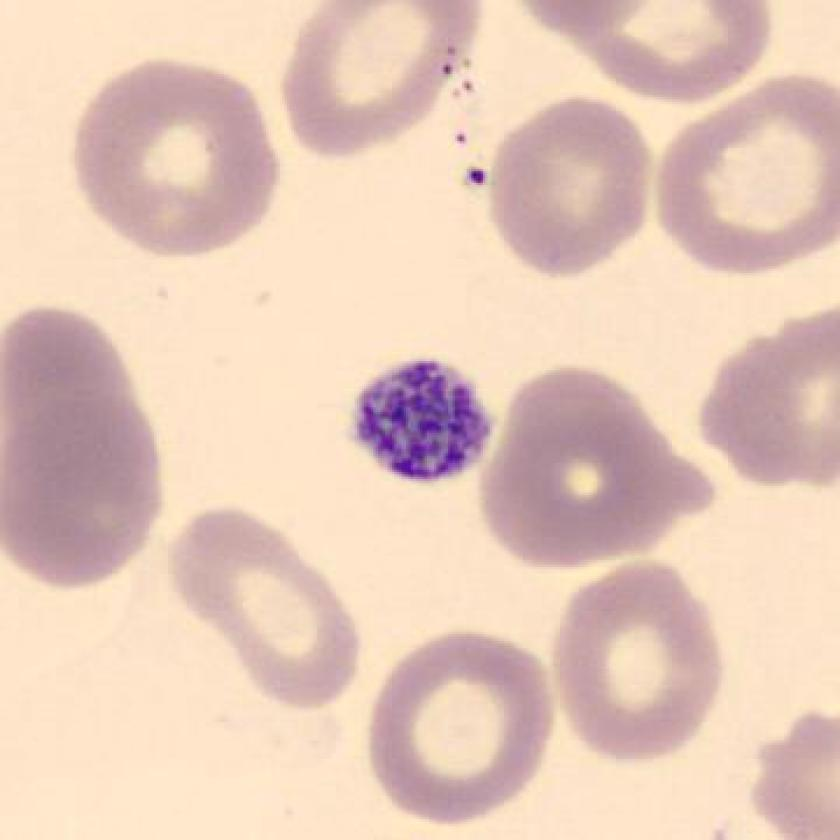platelets: (346, 353, 505, 492)
